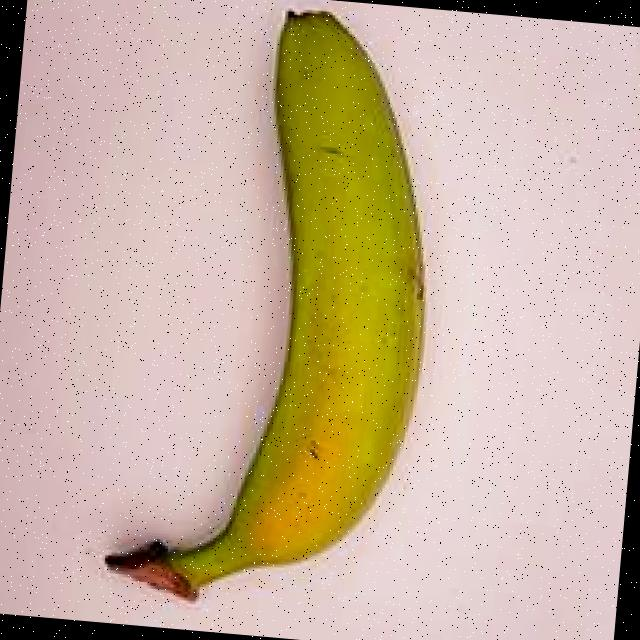Unripe: (52, 0, 503, 640)
